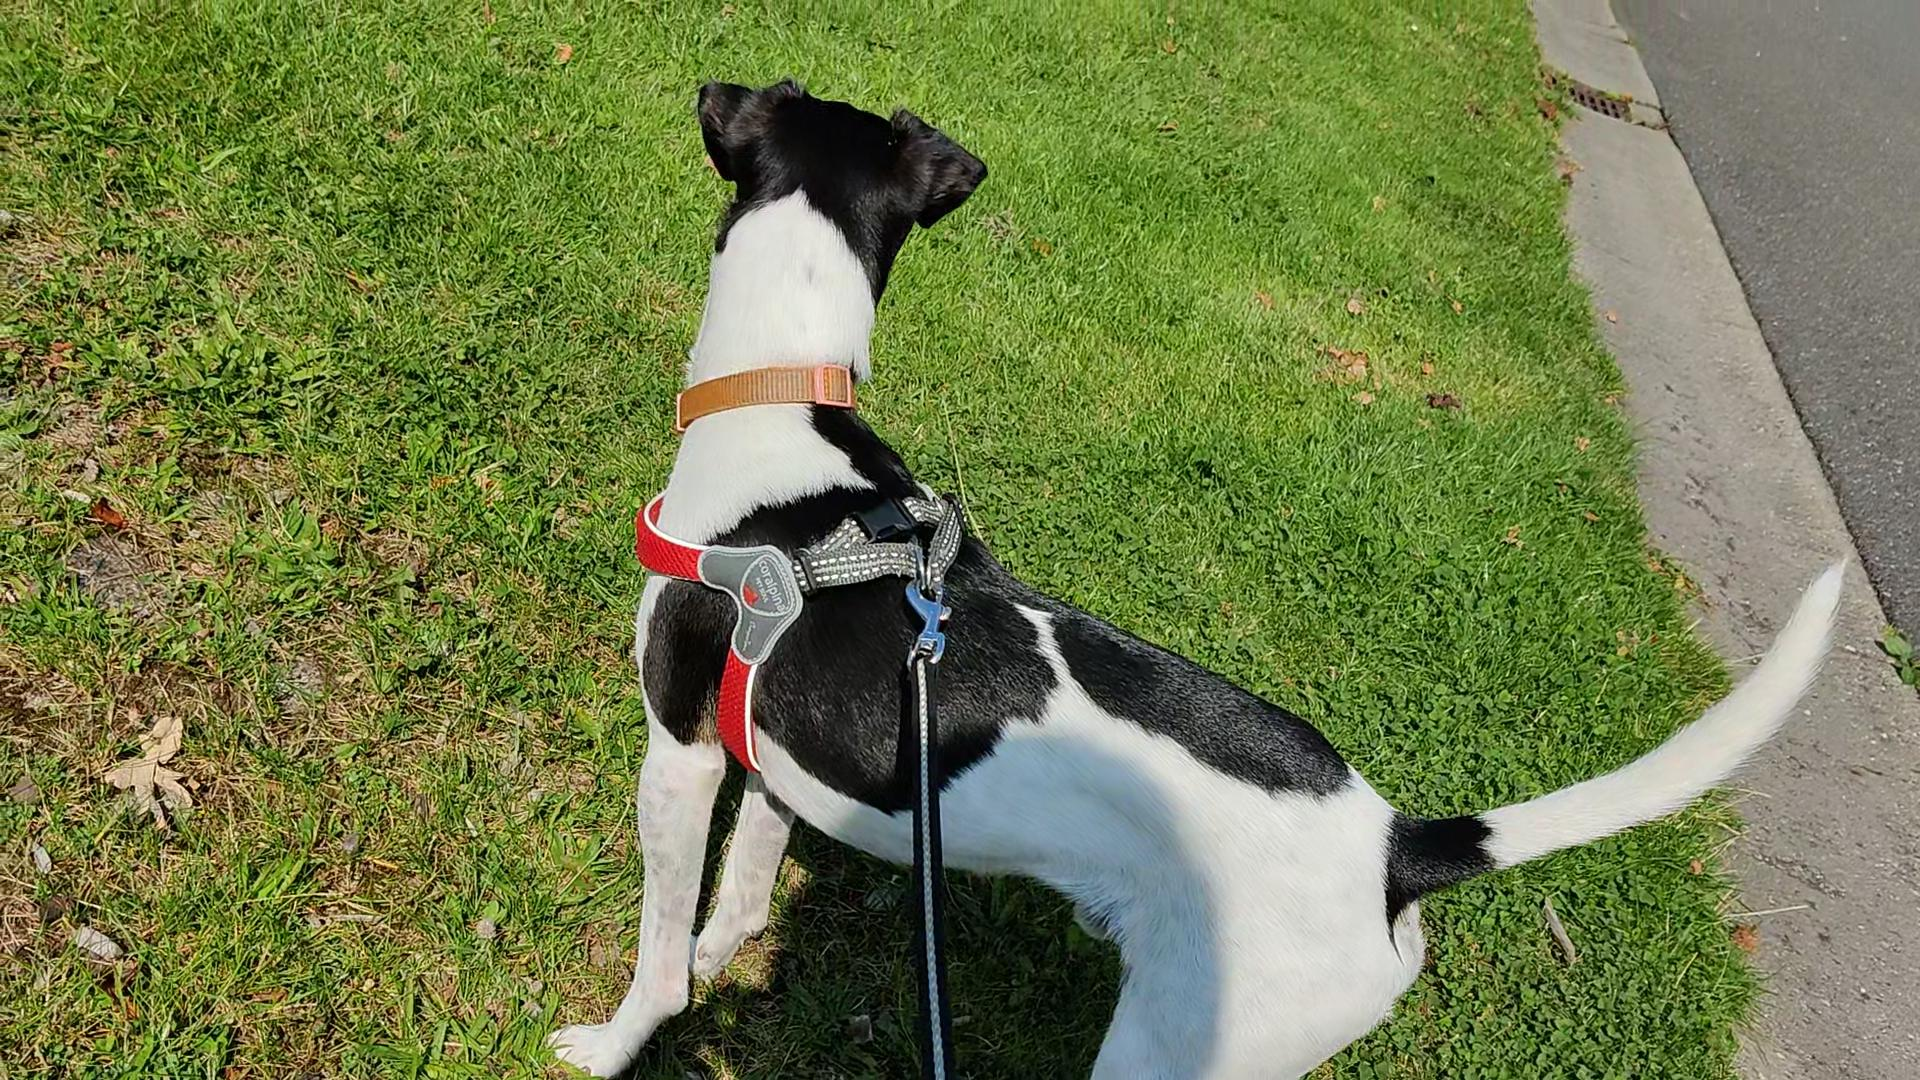Dog: (537, 73, 1847, 1079)
